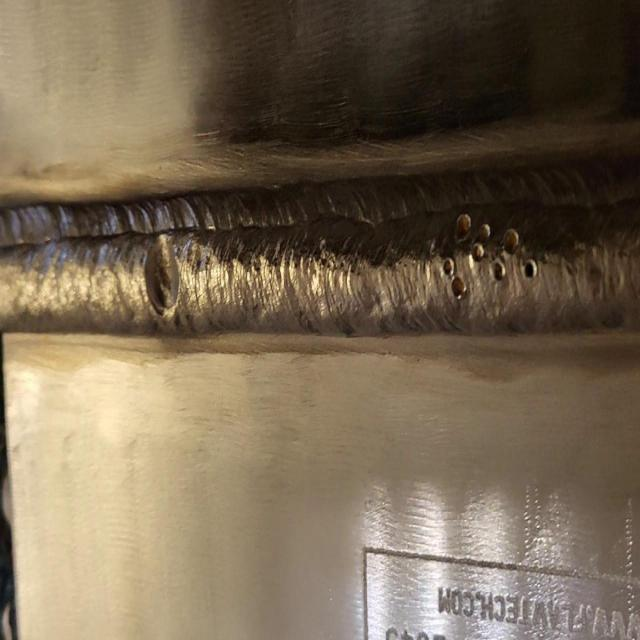Welding Line: (1, 209, 640, 333)
porosity: (441, 211, 538, 299), (144, 234, 178, 314)
